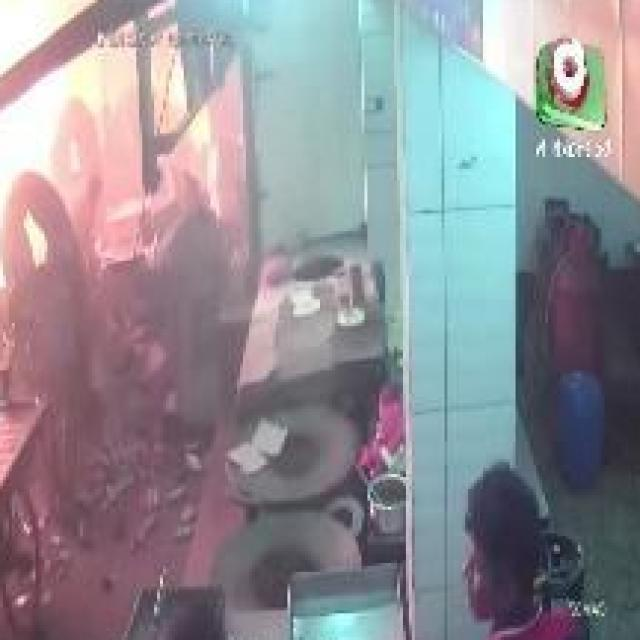smoke: (0, 0, 68, 287)
